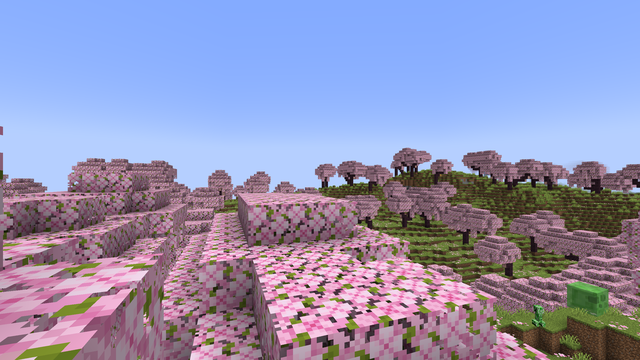creepers: (532, 303, 544, 327)
slimes: (565, 280, 609, 316)
